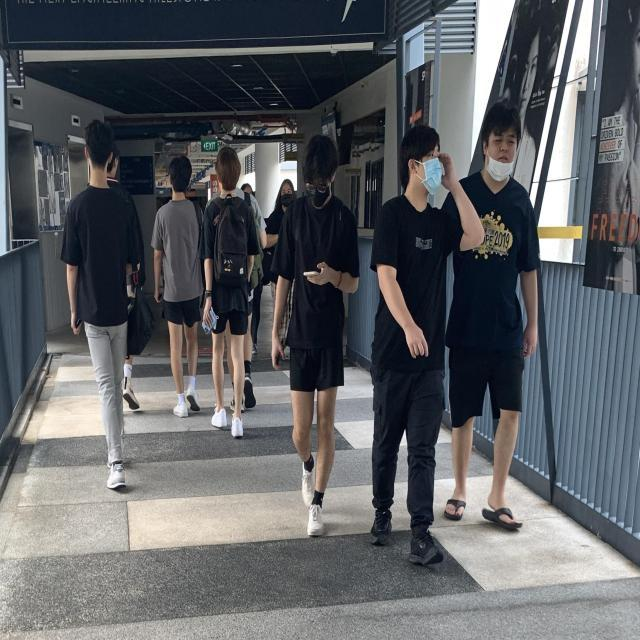hairnet: (482, 115, 520, 182)
